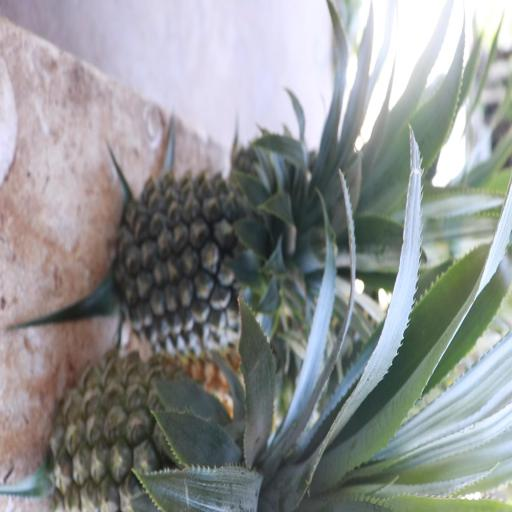------------------------------: (54, 350, 270, 512)
